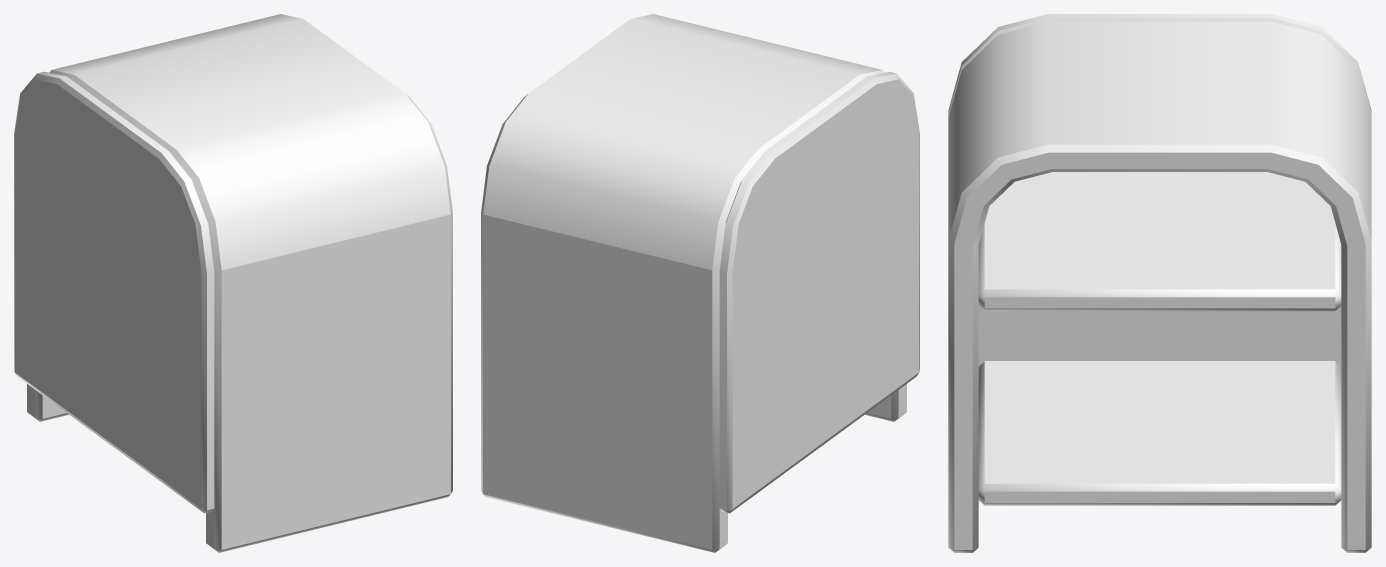
Rendered from Bedside_table.fbx.
3 views of the same model, side by side, from view 1: azimuth 30°, elevation 25°; view 2: azimuth 150°, elevation 25°; view 3: azimuth 270°, elevation 25° (orthographic). The views are drawn at different scales.
Visible parts, largest first — view 1: Bedside_table; view 2: Bedside_table; view 3: Bedside_table.
Part boxes in pixels (bbox=[...]): Bedside_table: bbox=[14, 14, 452, 552]; Bedside_table: bbox=[481, 14, 919, 552]; Bedside_table: bbox=[948, 14, 1371, 552].
Bounding box in the file's own units: 0.5275 × 0.7472 × 0.7017.
